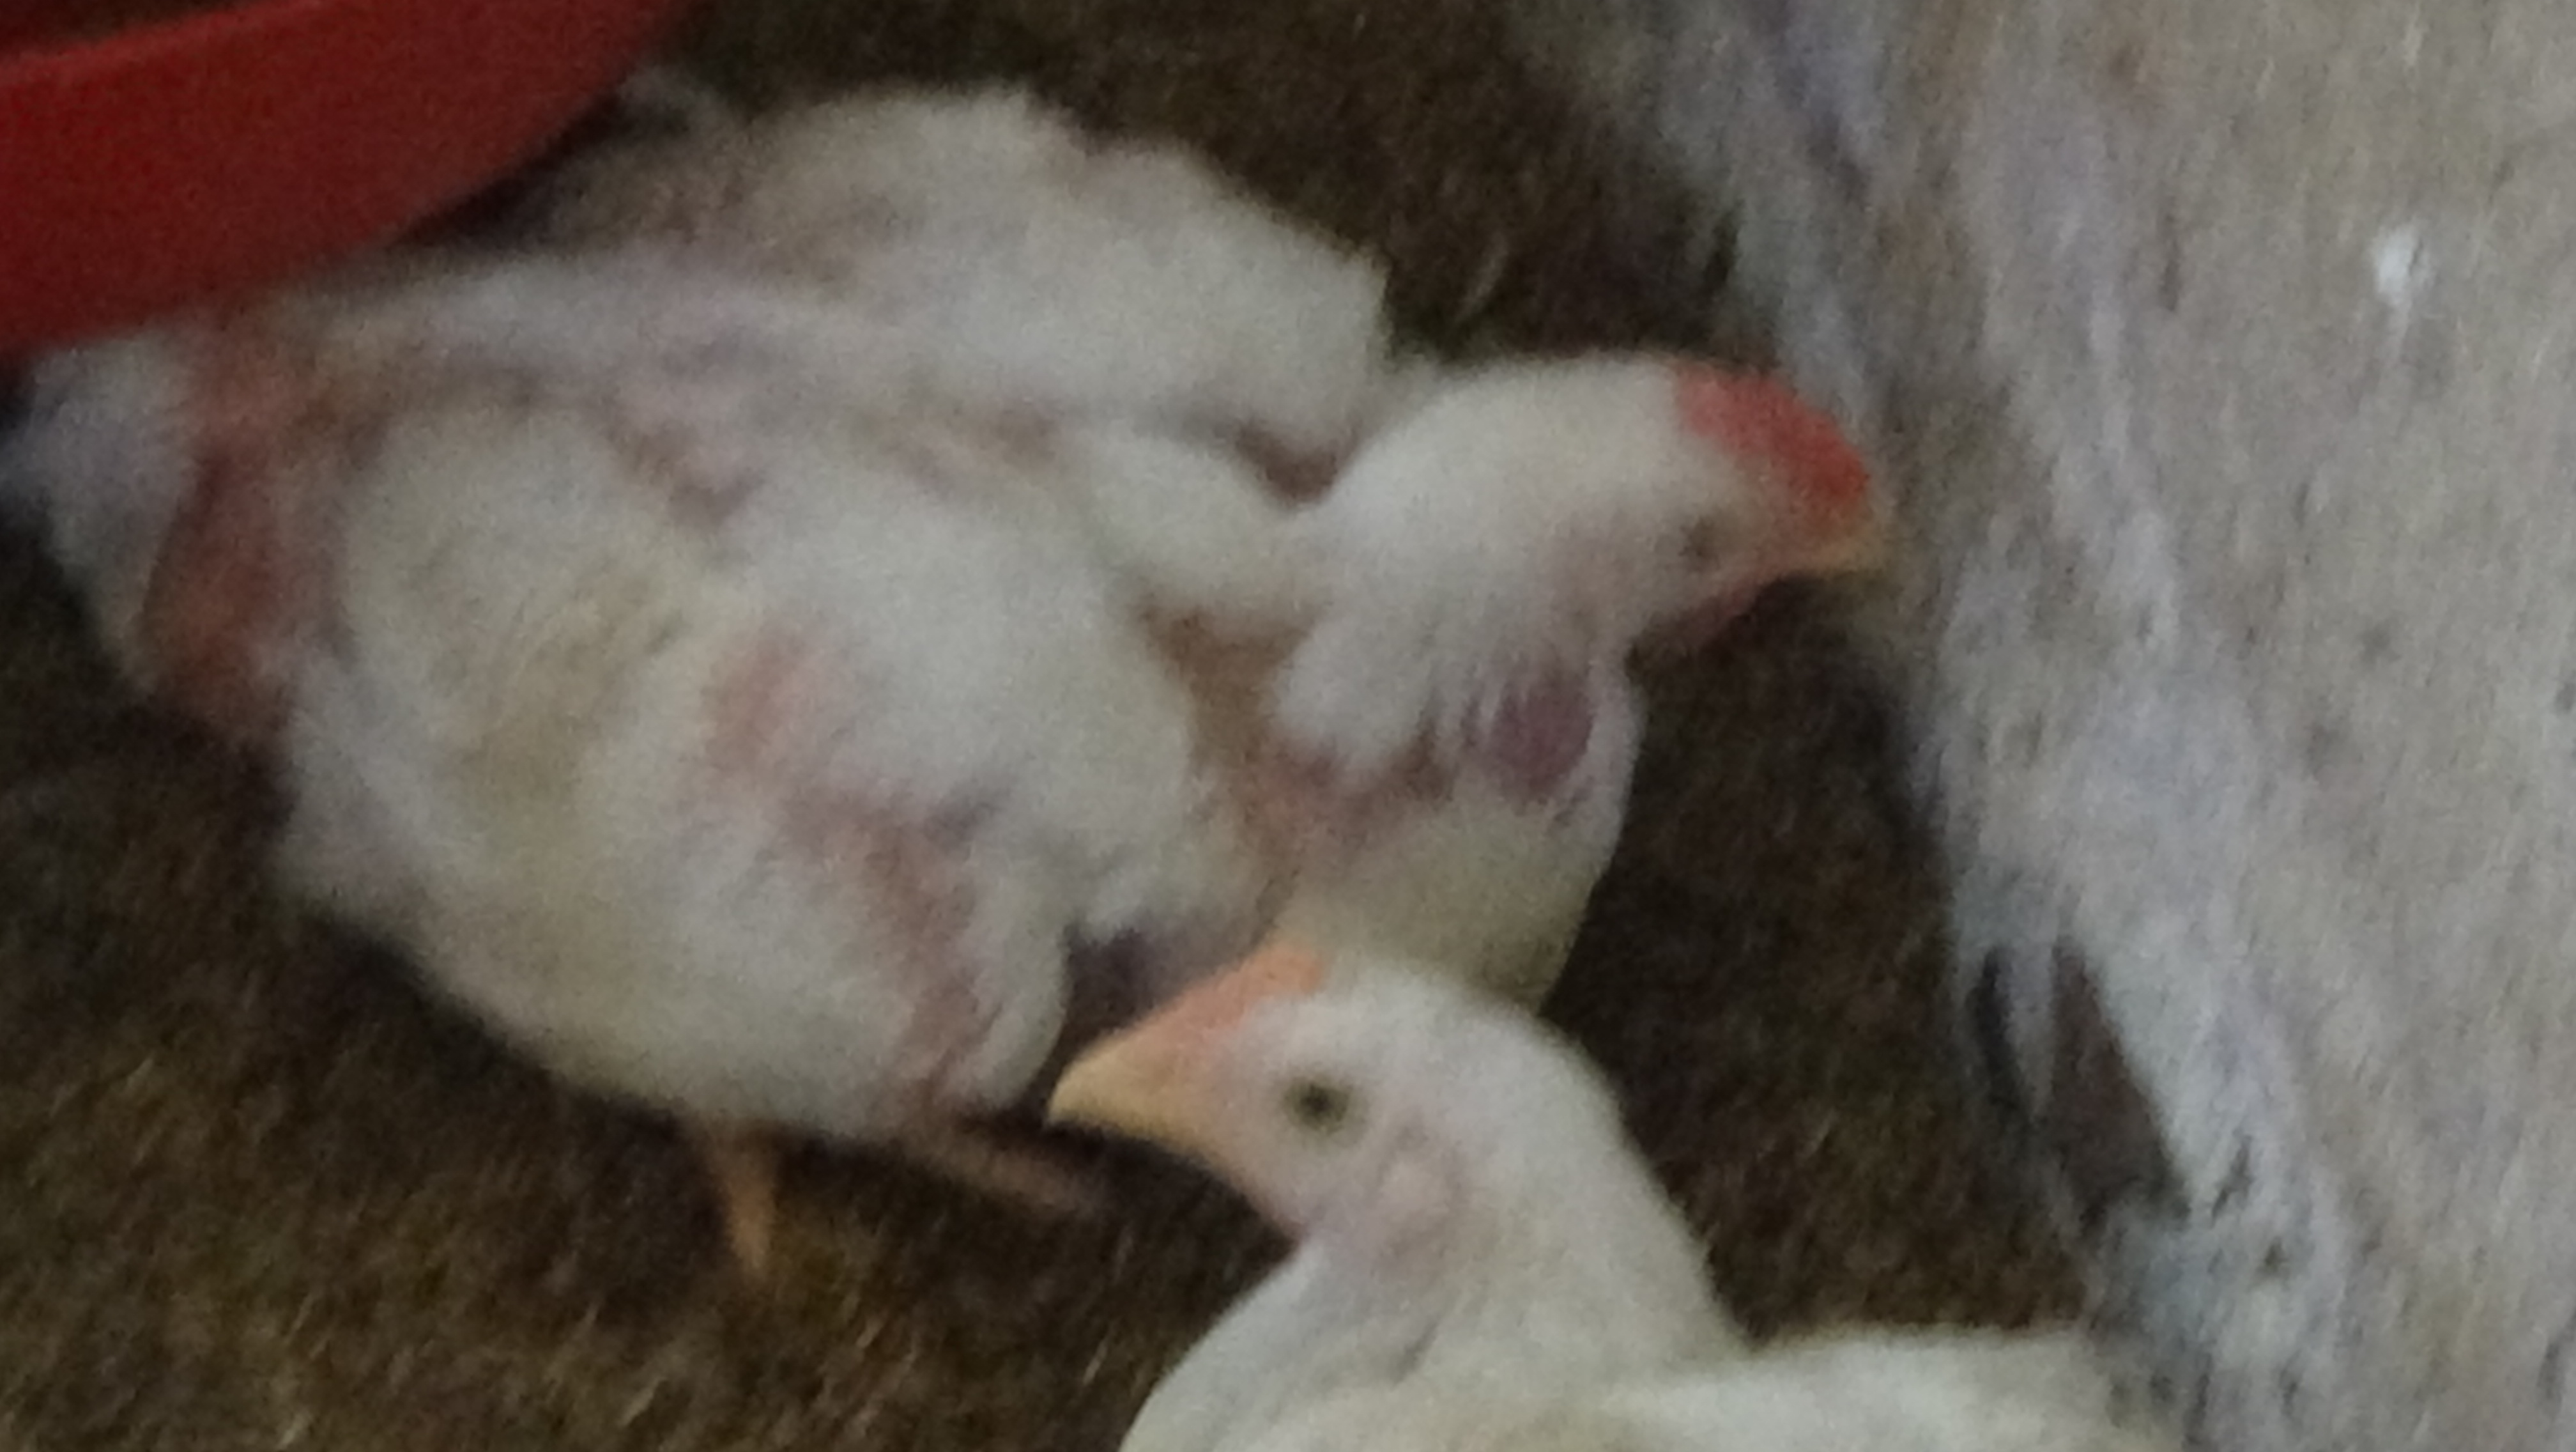Pollos: (46, 60, 1905, 1254), (994, 827, 2312, 1452)
